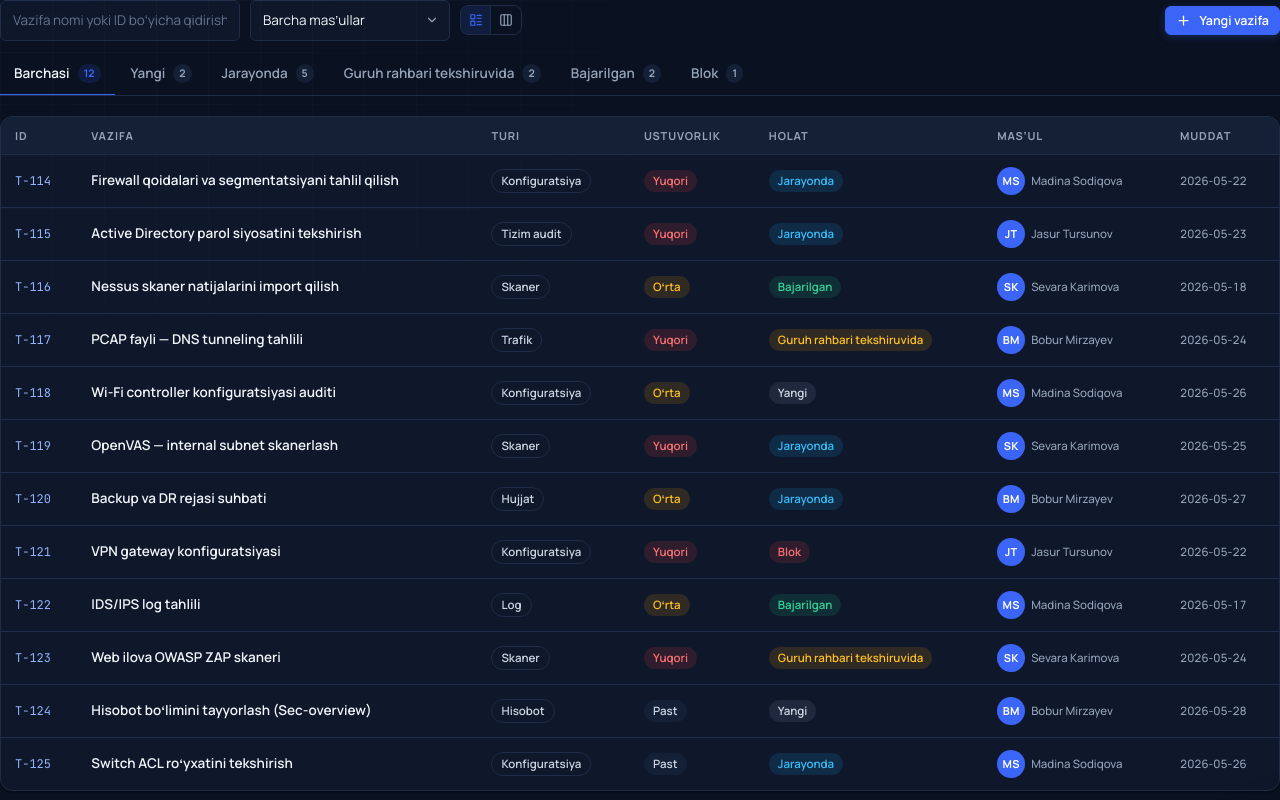
Test case: TasksTab › shows the add button and opens the create modal when canCreate is true
Click the button "Yangi vazifa" at x=1223, y=20, box [1165, 6, 1279, 35]
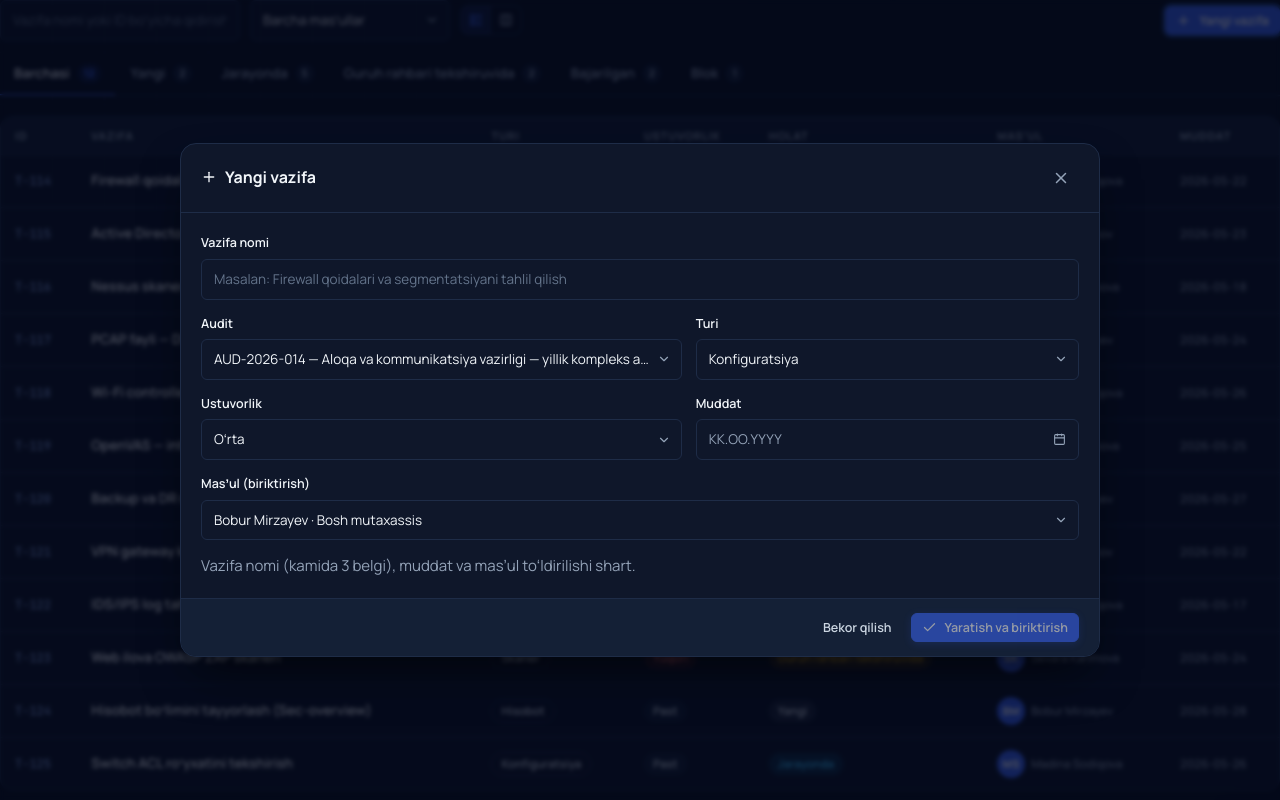
Expected: the dialog is shown, [180, 143, 1100, 657]
